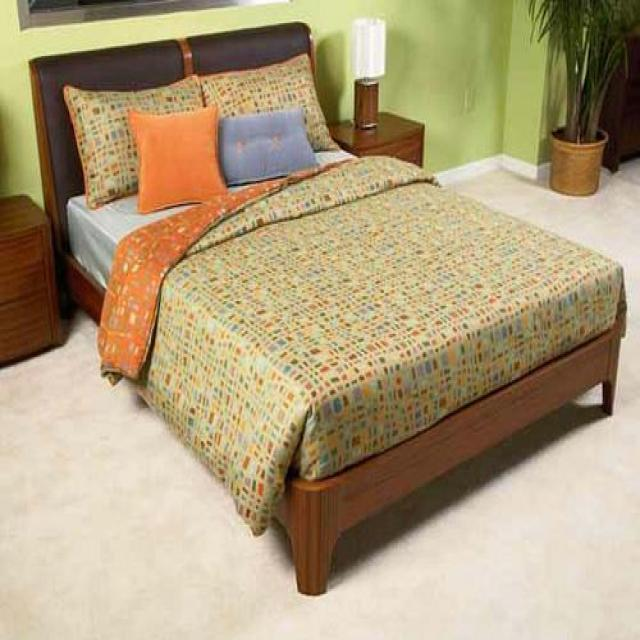bed: (28, 18, 627, 595)
